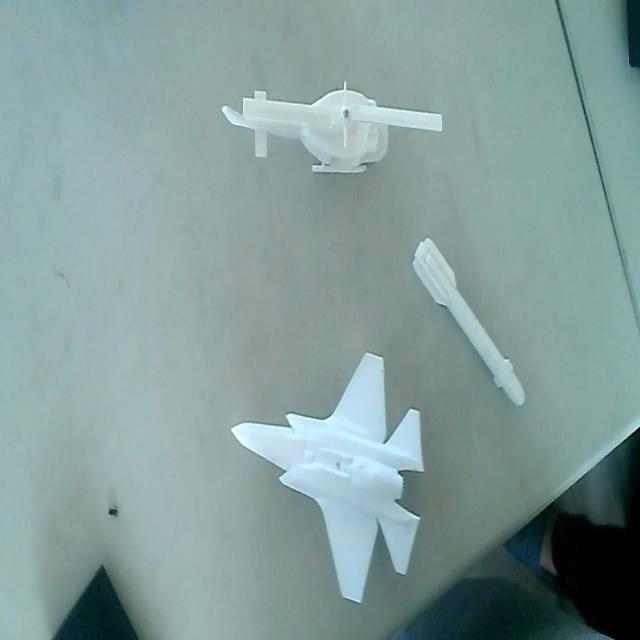Helicopter: (215, 70, 443, 185)
Jet: (227, 339, 427, 606)
Rocket: (410, 226, 530, 416)
